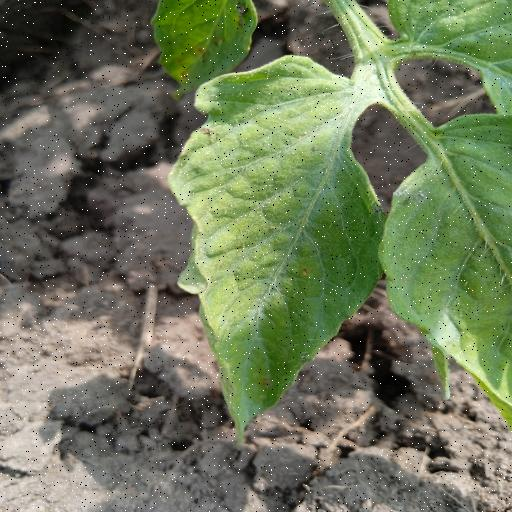Tomato_Mildiou: (160, 53, 394, 448)
